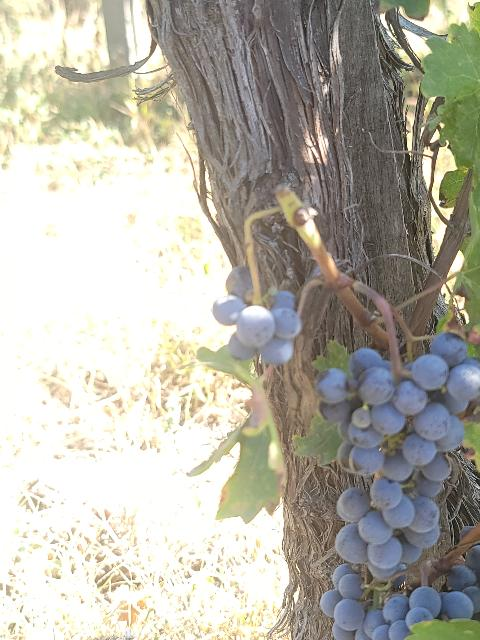grapes: (315, 334, 480, 579), (320, 548, 480, 640), (212, 266, 302, 365)
